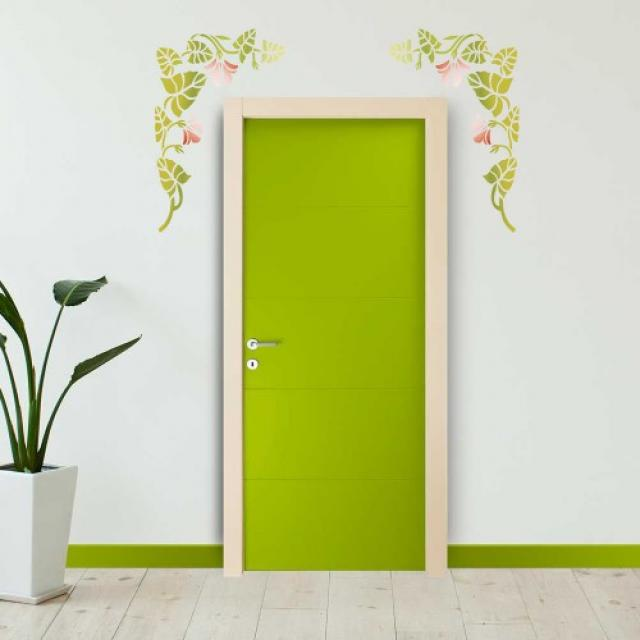close: (230, 102, 446, 575)
